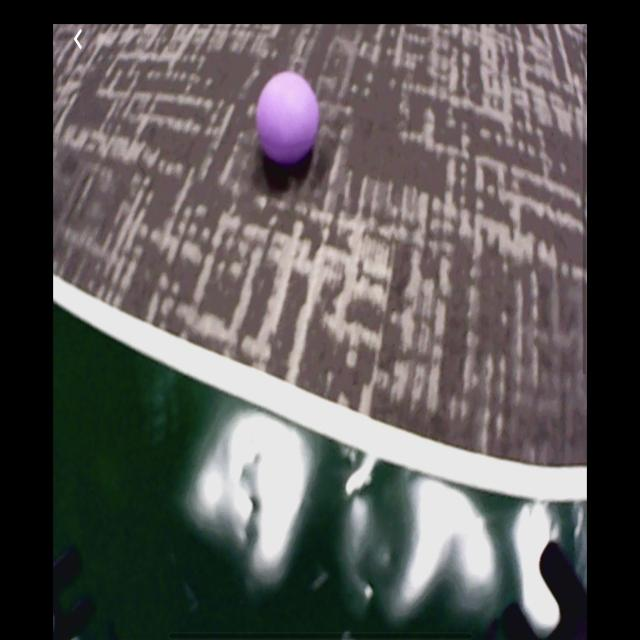ball: (256, 72, 323, 166)
